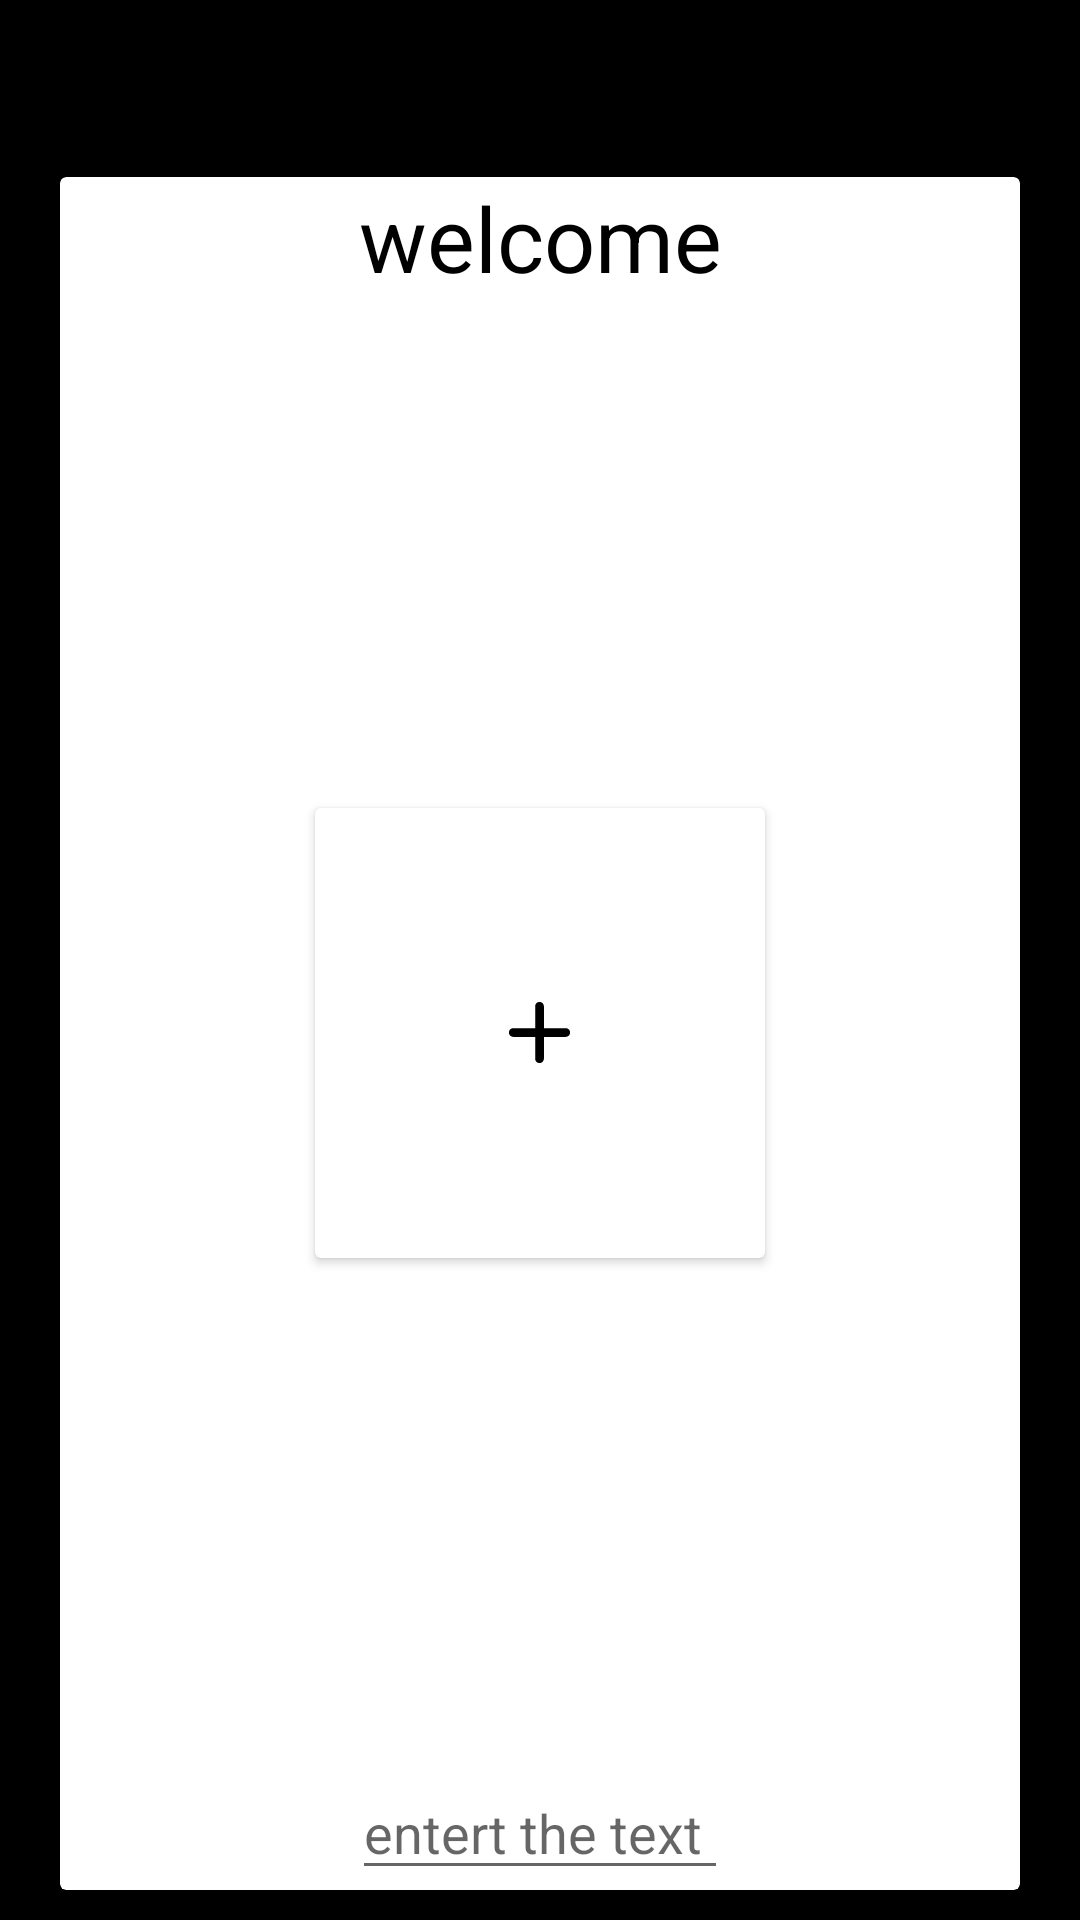

Locate icon controls on the screen. Image size 1080×1920, boxes as (x1,y1,x2,y2).
add: (509,1002,570,1063)
